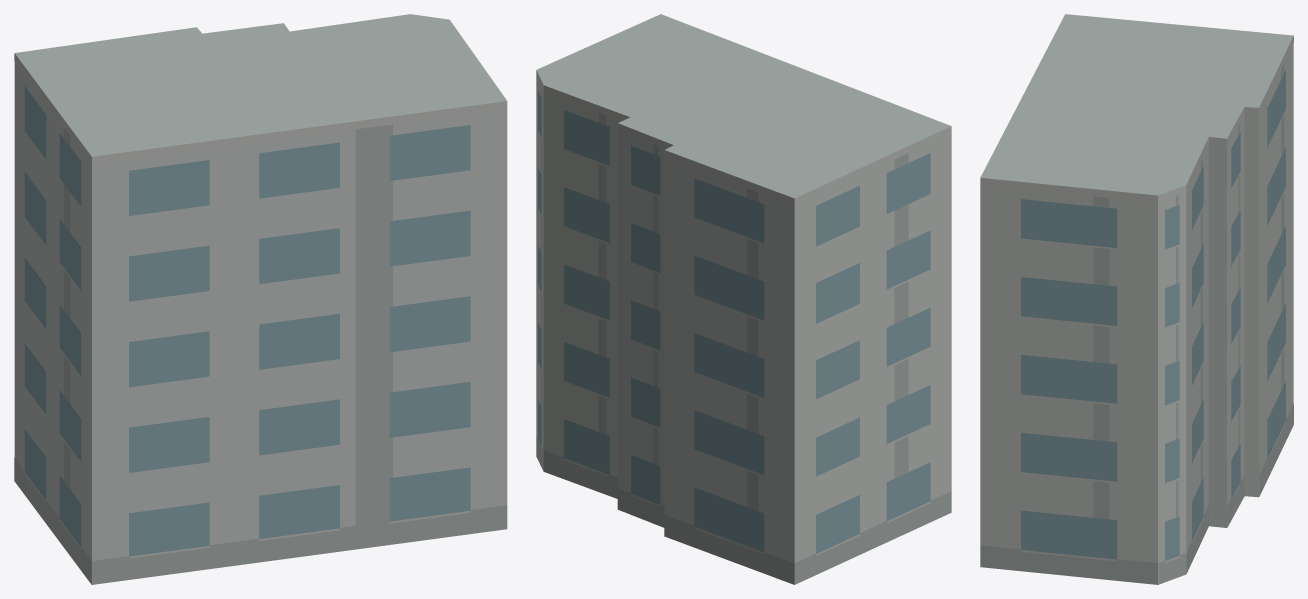
The model's file is survey-upis-32529255.glb.
The picture shows the model from 3 angles, left to right: view 1: azimuth 30°, elevation 25°; view 2: azimuth 150°, elevation 25°; view 3: azimuth 270°, elevation 25°; orthographic projection. The views are drawn at different scales.
Visible parts, largest first — view 1: survey-upis-32529255.tmp; view 2: survey-upis-32529255.tmp; view 3: survey-upis-32529255.tmp.
Boxes of the visible parts, x1,y1,x2,y2 form: survey-upis-32529255.tmp: (14, 14, 507, 584); survey-upis-32529255.tmp: (536, 14, 951, 584); survey-upis-32529255.tmp: (980, 14, 1293, 584).
Size of the model in its own units: 13.01 by 13 by 9.5.
